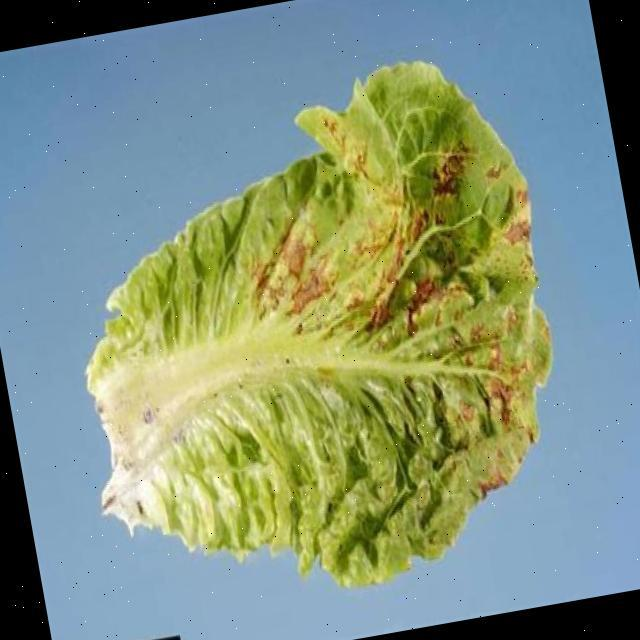Lettuce Mosaic Virus: (37, 52, 594, 625)
